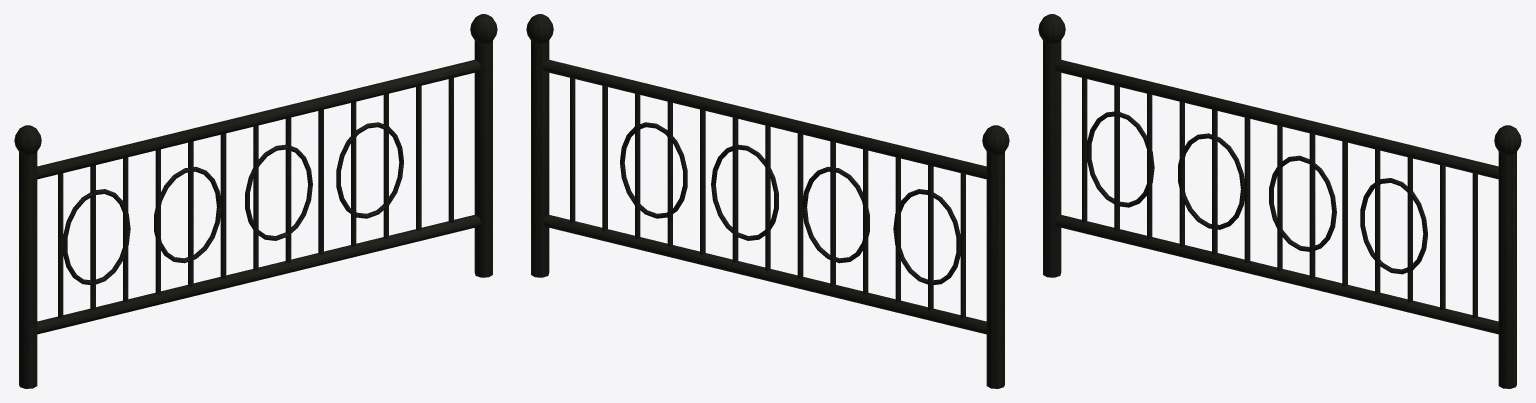
Rendered from hang_rao_ho.glb.
3 views of the same model, side by side, from view 1: azimuth 30°, elevation 25°; view 2: azimuth 150°, elevation 25°; view 3: azimuth 330°, elevation 25° (orthographic).
Visible parts, largest first — view 1: hang_rao_ho.001; view 2: hang_rao_ho.001; view 3: hang_rao_ho.001.
Part boxes in pixels (<box>): hang_rao_ho.001: <box>14,14,497,388</box>; hang_rao_ho.001: <box>526,14,1009,388</box>; hang_rao_ho.001: <box>1038,14,1521,388</box>.
Bounding box in the file's own units: 2.1 × 1.08 × 0.104.
1 material, 1 textured.
